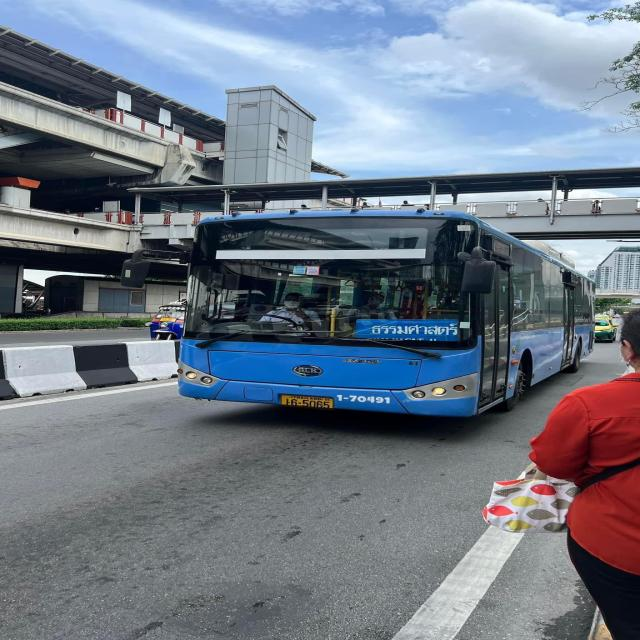BMTA-bus: (175, 210, 596, 420)
Bus-Line-Number: (355, 228, 428, 250)
Destination-Sign-Normal: (351, 319, 463, 341)
